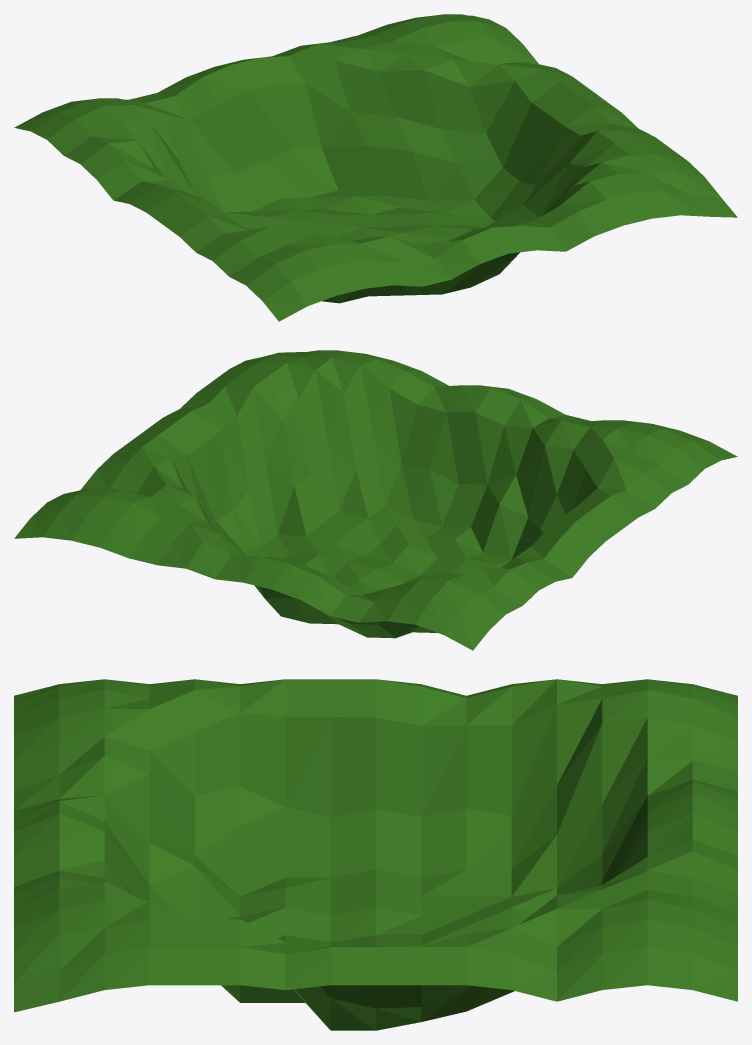
The model's file is ground1.fbx.
3 views of the same model, one above another, from view 1: azimuth 30°, elevation 25°; view 2: azimuth 150°, elevation 25°; view 3: azimuth 270°, elevation 25° (orthographic). The views are drawn at different scales.
Parts seen in each view (by area): view 1: Plane; view 2: Plane; view 3: Plane.
Boxes of the visible parts, box(x1,y1,x2,y2) form: Plane: box(14, 14, 737, 321); Plane: box(14, 350, 737, 650); Plane: box(14, 679, 737, 1030).
Bounding box in the file's own units: 100 × 23.89 × 100.
Materials: 1 (1 with a texture image).
